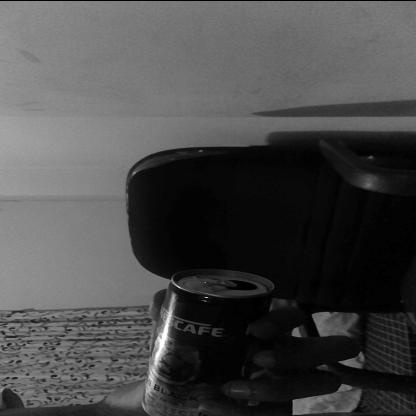alumunium_can: (144, 264, 281, 416)
